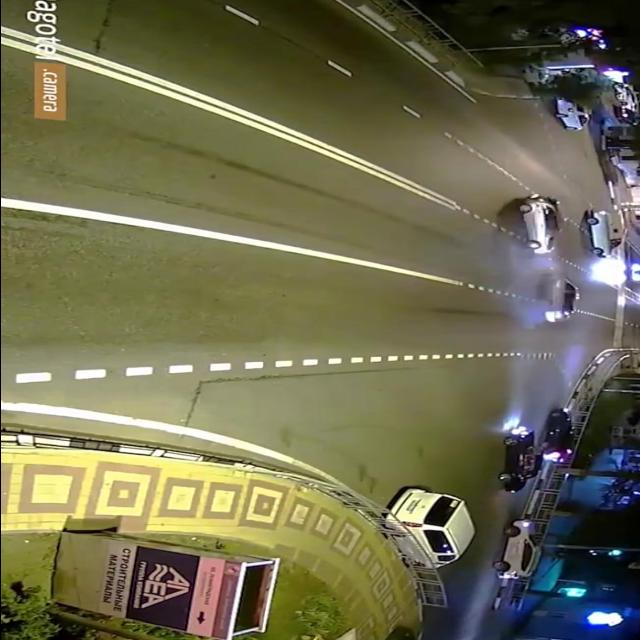accident: (500, 191, 588, 324)
non_accident: (486, 401, 590, 498)
